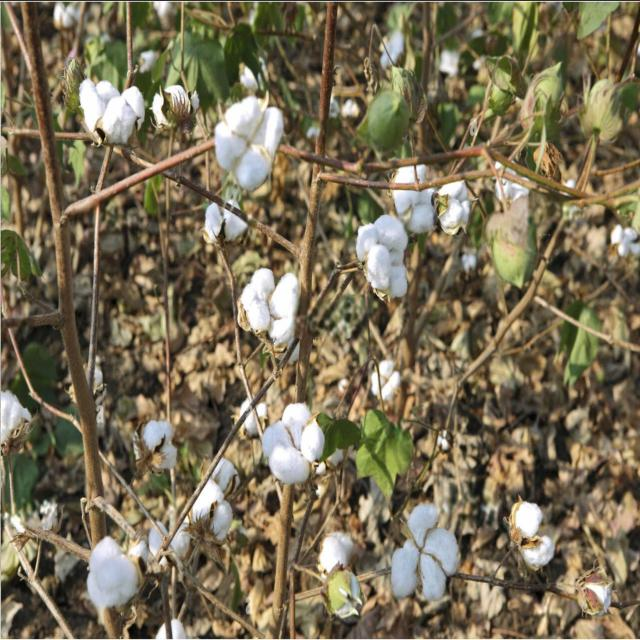Early_blight: (206, 78, 290, 201), (383, 494, 467, 609), (227, 259, 308, 364), (255, 397, 330, 491), (81, 530, 143, 630), (313, 530, 367, 632), (74, 72, 144, 148), (505, 494, 554, 570), (389, 166, 434, 234), (152, 80, 197, 132), (200, 197, 245, 247), (437, 176, 471, 236), (577, 569, 613, 617)
